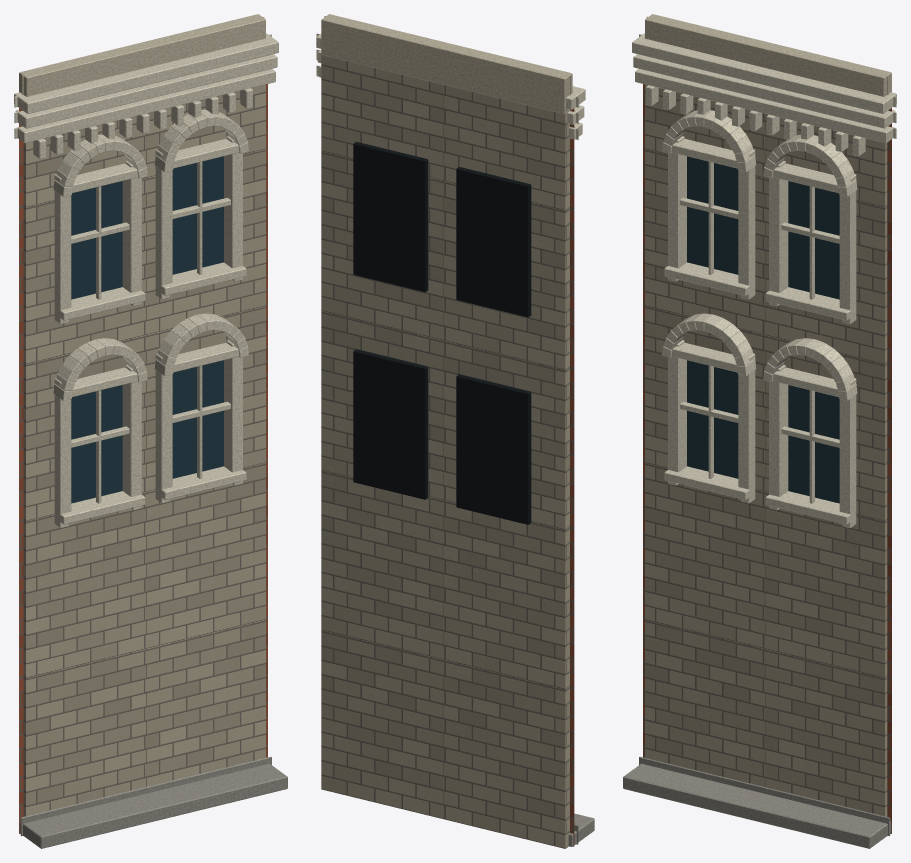
Rendered from WRHS4_lod1.glb.
3 views of the same model, side by side, from view 1: azimuth 30°, elevation 25°; view 2: azimuth 150°, elevation 25°; view 3: azimuth 330°, elevation 25° (orthographic).
Parts seen in each view (by area): view 1: WRHS4_FRONT_LOD1; view 2: WRHS4_FRONT_LOD1; view 3: WRHS4_FRONT_LOD1.
Boxes of the visible parts, left/top/right/bottom form: WRHS4_FRONT_LOD1: left=14, top=14, right=287, bottom=848; WRHS4_FRONT_LOD1: left=316, top=14, right=594, bottom=848; WRHS4_FRONT_LOD1: left=623, top=14, right=896, bottom=848.
Bounding box in the file's own units: 3.44 × 9.66 × 0.65.
8 materials, 6 textured.
